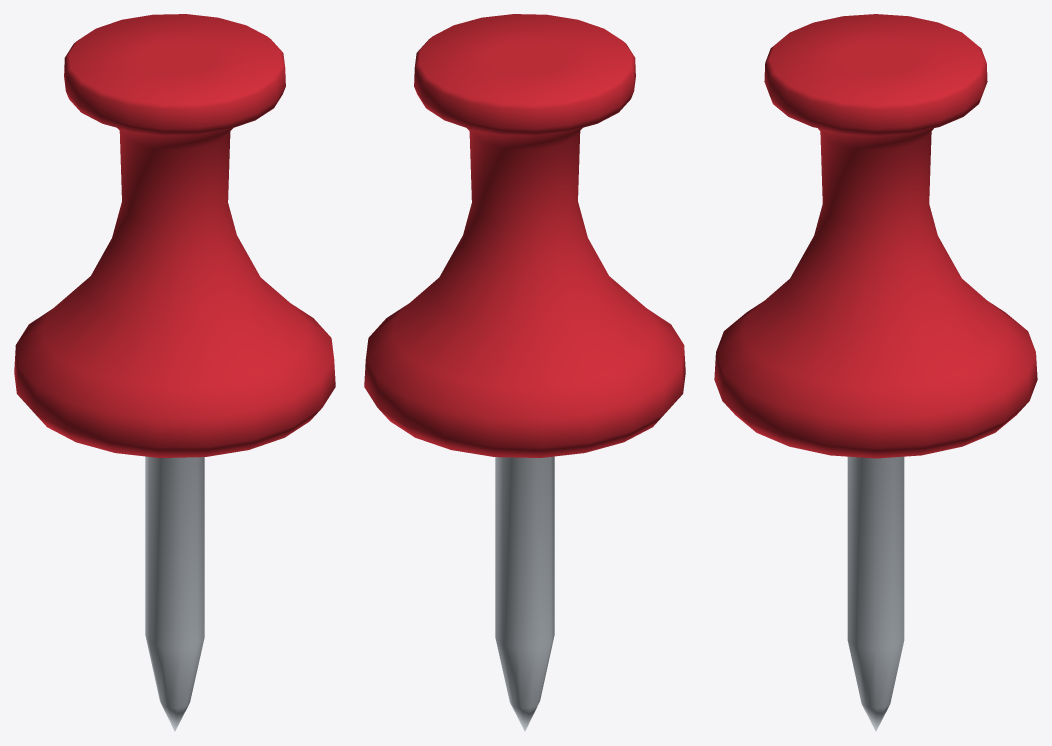
File: thumbtack_red_low.glb
The picture shows the model from 3 angles, left to right: view 1: azimuth 30°, elevation 25°; view 2: azimuth 150°, elevation 25°; view 3: azimuth 270°, elevation 25°; orthographic projection.
Parts seen in each view (by area): view 1: Plastic_Head_LOD, Steel_Pin_LOD; view 2: Plastic_Head_LOD, Steel_Pin_LOD; view 3: Plastic_Head_LOD, Steel_Pin_LOD.
Part boxes in pixels (box(x1,y1,x2,y2)): Plastic_Head_LOD: box(14, 14, 335, 457); Steel_Pin_LOD: box(145, 456, 204, 731); Plastic_Head_LOD: box(364, 14, 685, 457); Steel_Pin_LOD: box(495, 456, 554, 731); Plastic_Head_LOD: box(714, 14, 1037, 458); Steel_Pin_LOD: box(847, 456, 904, 731).
Size of the model in its own units: 0.00898 by 0.0206 by 0.00898.
